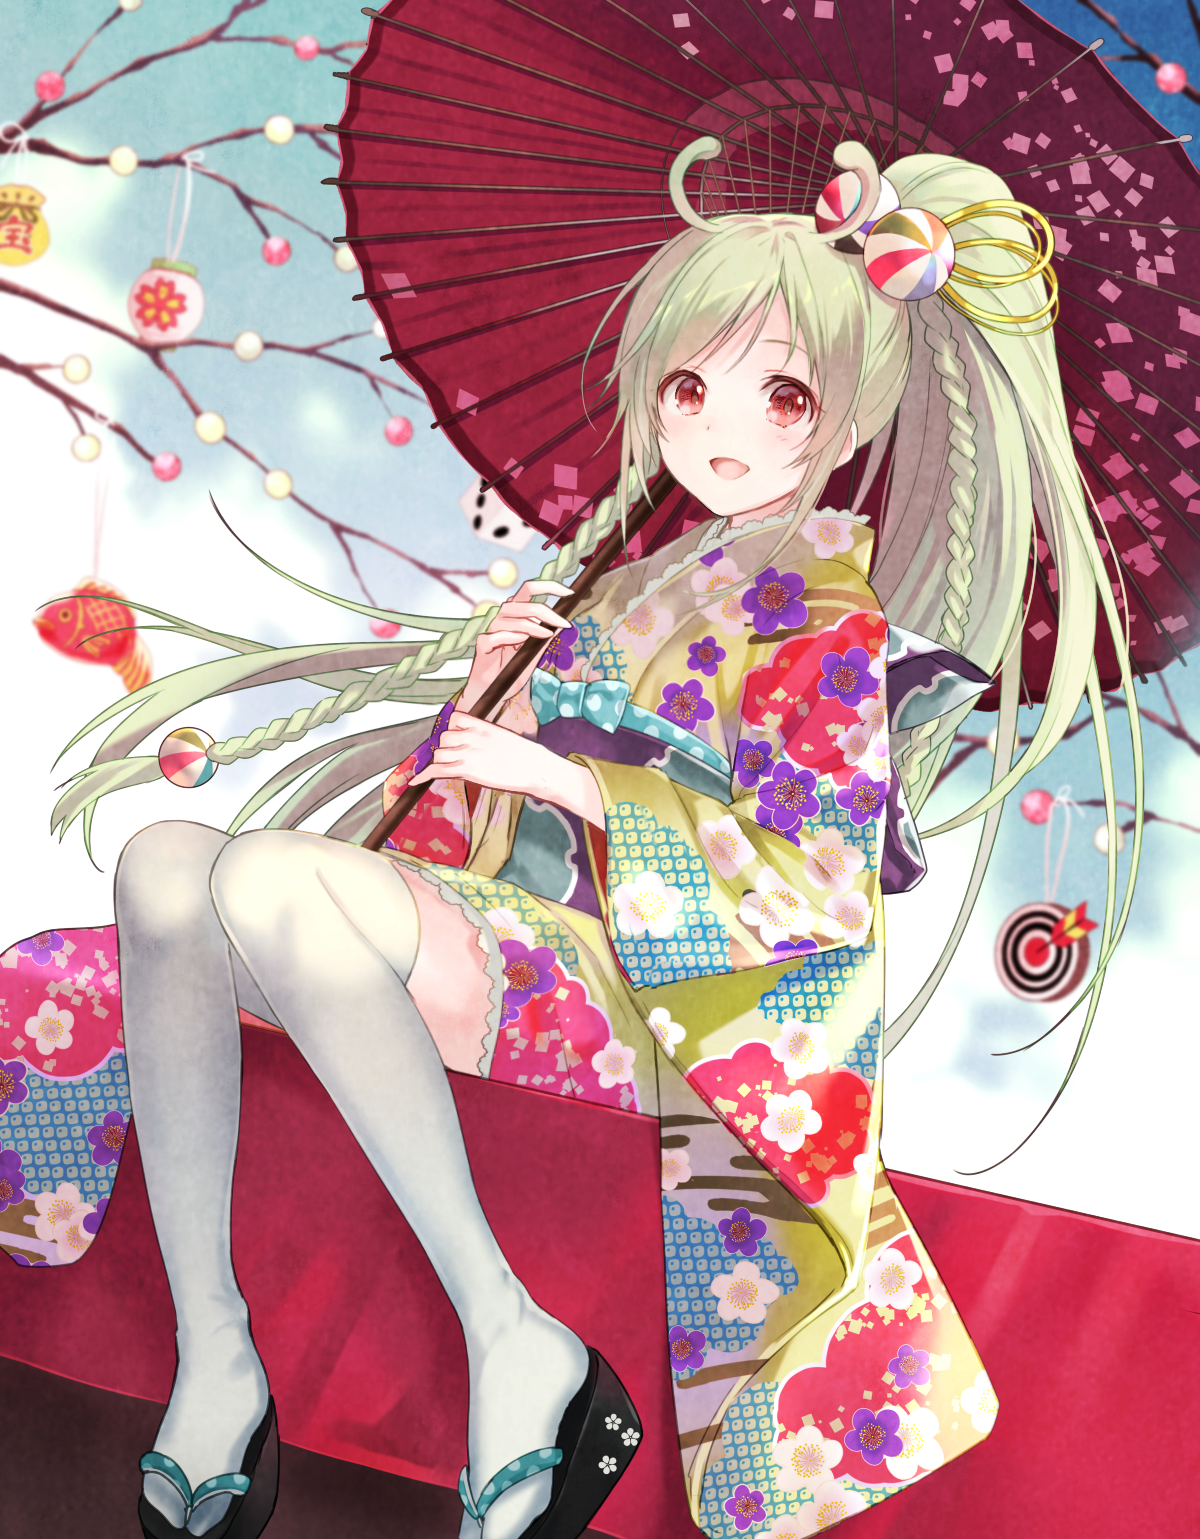纸片人正脸: (599, 149, 947, 517)
